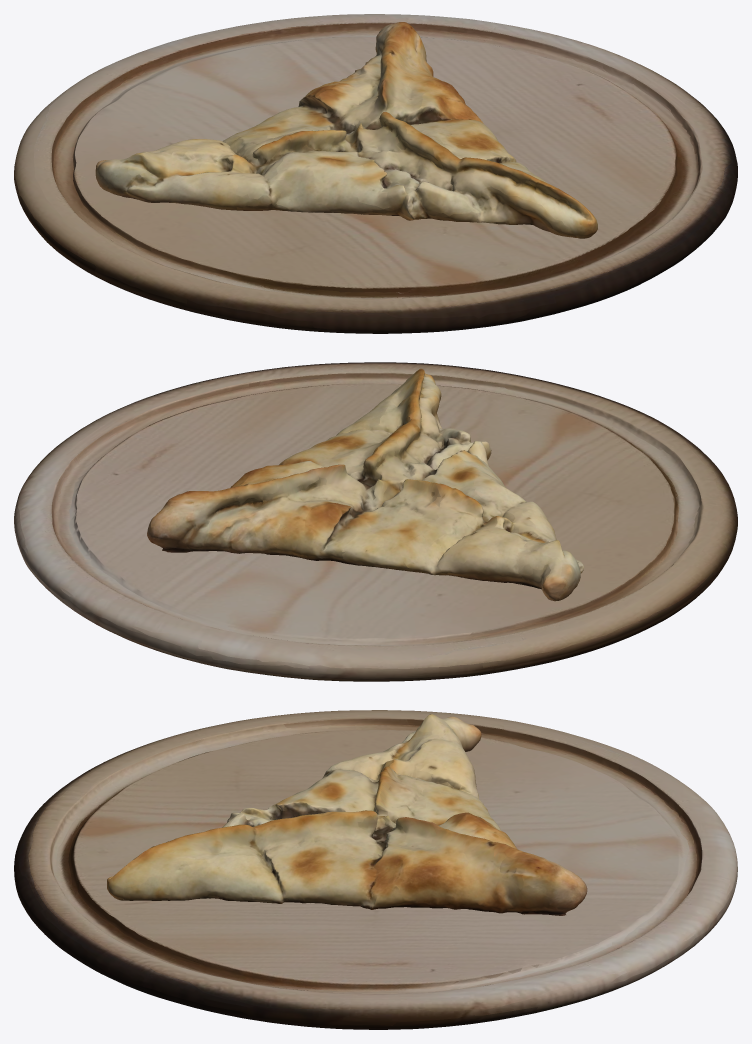
File: fatayer.spinach.glb
3 views of the same model, one above another, from view 1: azimuth 30°, elevation 25°; view 2: azimuth 150°, elevation 25°; view 3: azimuth 270°, elevation 25° (orthographic).
Visible parts, largest first — view 1: /Root/Scenes/Scene/Object_37/Object_38/Object_39/Submesh_0, /Root/Scenes/Scene/Object_37/Object_40/Submesh_0; view 2: /Root/Scenes/Scene/Object_37/Object_38/Object_39/Submesh_0, /Root/Scenes/Scene/Object_37/Object_40/Submesh_0; view 3: /Root/Scenes/Scene/Object_37/Object_38/Object_39/Submesh_0, /Root/Scenes/Scene/Object_37/Object_40/Submesh_0.
Part boxes in pixels (box(x1,y1,x2,y2)): /Root/Scenes/Scene/Object_37/Object_38/Object_39/Submesh_0: box(14, 14, 737, 333); /Root/Scenes/Scene/Object_37/Object_40/Submesh_0: box(95, 22, 597, 238); /Root/Scenes/Scene/Object_37/Object_38/Object_39/Submesh_0: box(14, 362, 737, 681); /Root/Scenes/Scene/Object_37/Object_40/Submesh_0: box(147, 368, 583, 601); /Root/Scenes/Scene/Object_37/Object_38/Object_39/Submesh_0: box(14, 710, 737, 1029); /Root/Scenes/Scene/Object_37/Object_40/Submesh_0: box(107, 714, 587, 915).
Bounding box in the file's own units: 0.3767 × 0.0445 × 0.3767.
2 materials, 2 textured.
